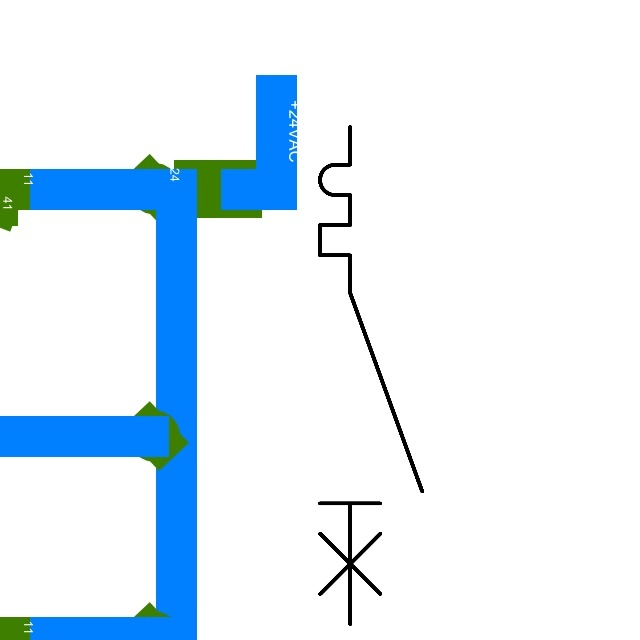interruptor_termomagnetico: (307, 114, 435, 637)
